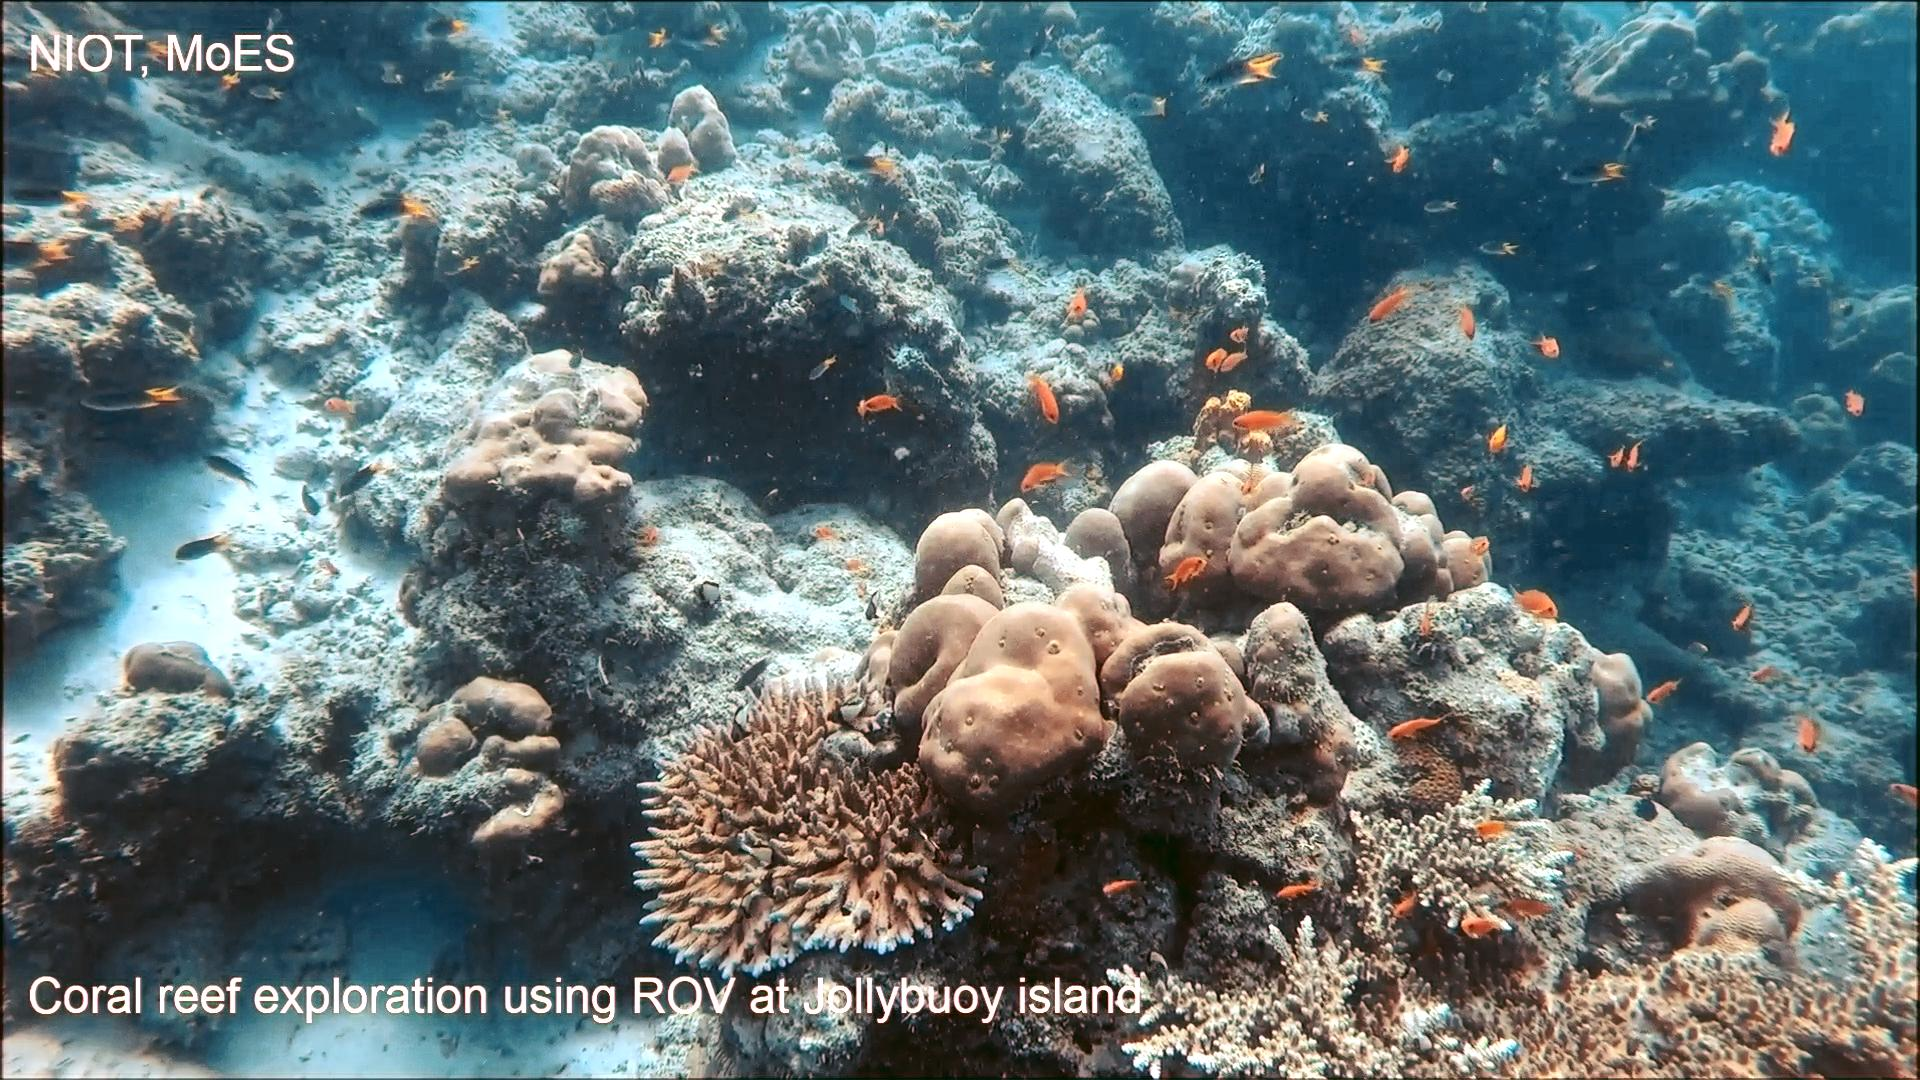Porites-Porites pukoensis: (856, 491, 1265, 823), (1100, 438, 1498, 620)
